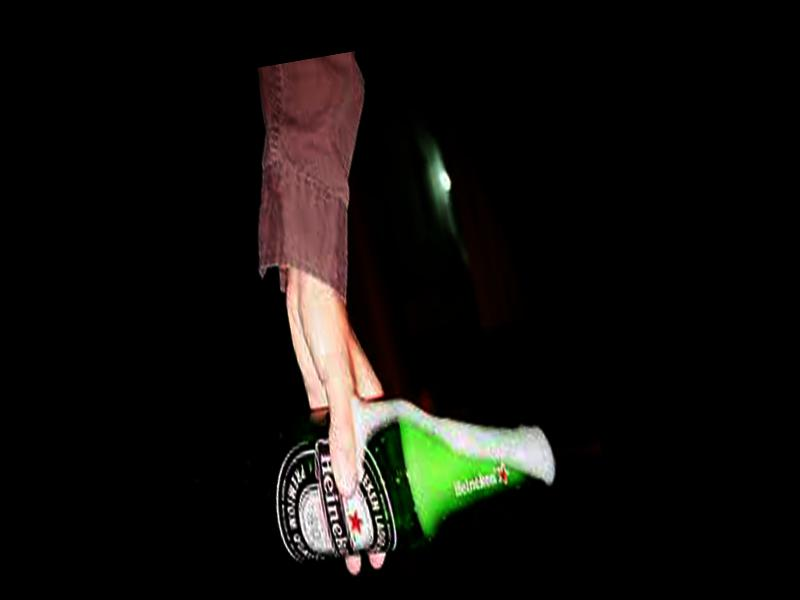Beer: (252, 372, 552, 576)
